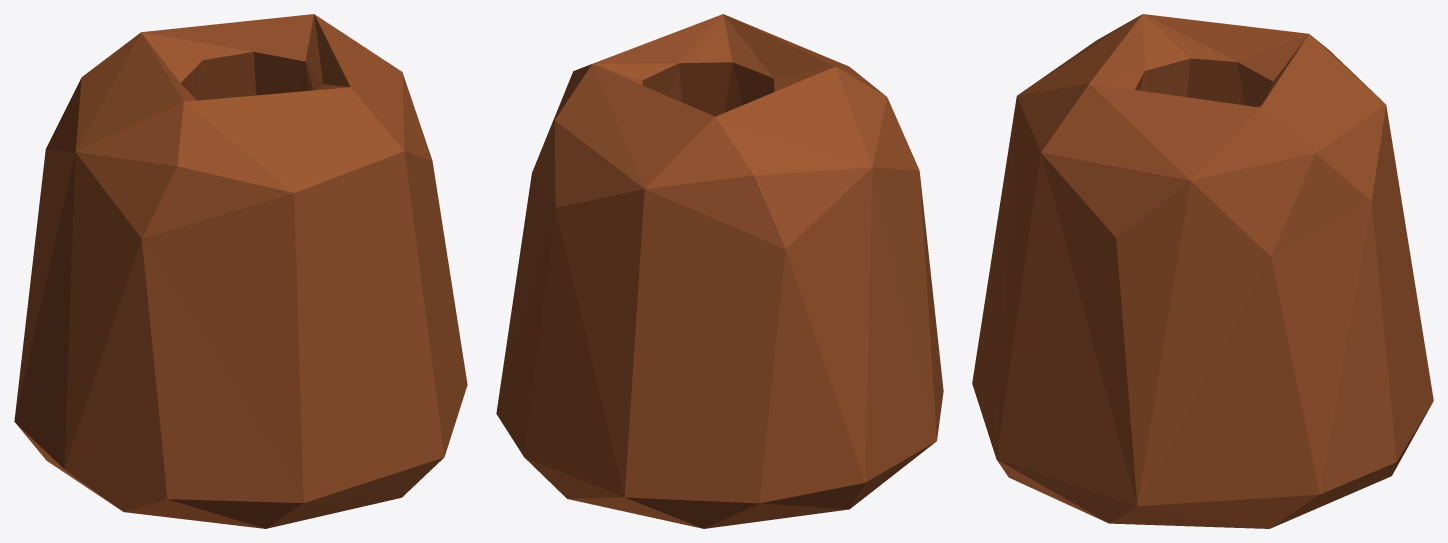
The model's file is ClayPot_Item.fbx.
The picture shows the model from 3 angles, left to right: view 1: azimuth 30°, elevation 25°; view 2: azimuth 150°, elevation 25°; view 3: azimuth 270°, elevation 25°; orthographic projection. The views are drawn at different scales.
Visible parts, largest first — view 1: Cylinder; view 2: Cylinder; view 3: Cylinder.
Part boxes in pixels (left/top/right/bottom): Cylinder: left=14, top=14, right=467, bottom=528; Cylinder: left=496, top=14, right=943, bottom=528; Cylinder: left=972, top=14, right=1433, bottom=528.
Size of the model in its own units: 230 by 216 by 232.
